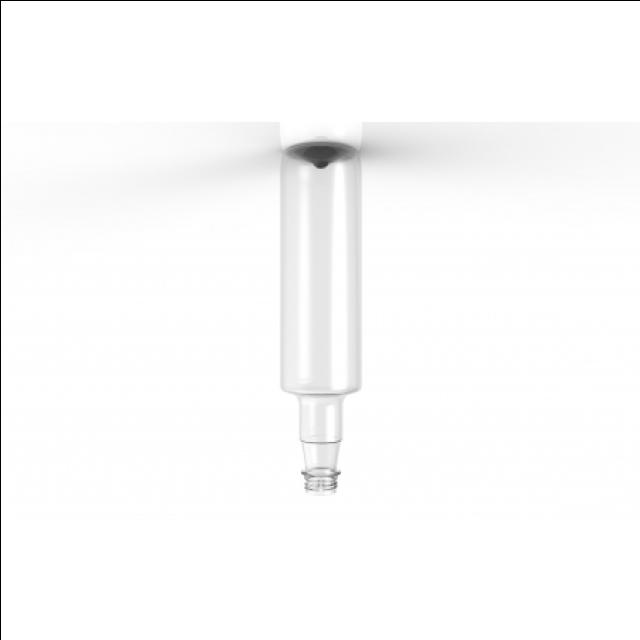bottle: (280, 142, 360, 494)
